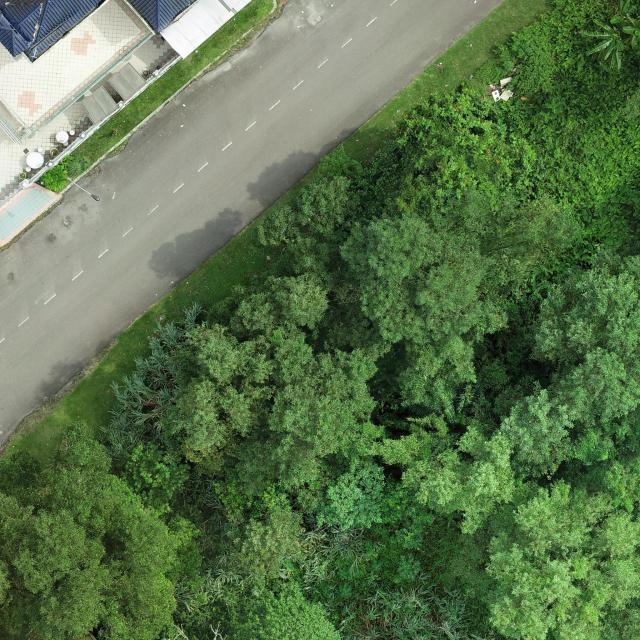Tree: (339, 188, 584, 408), (0, 419, 182, 640), (172, 324, 394, 487), (496, 243, 640, 483), (484, 477, 640, 640), (395, 78, 539, 208), (580, 18, 630, 70), (622, 12, 640, 50), (610, 0, 637, 25)
